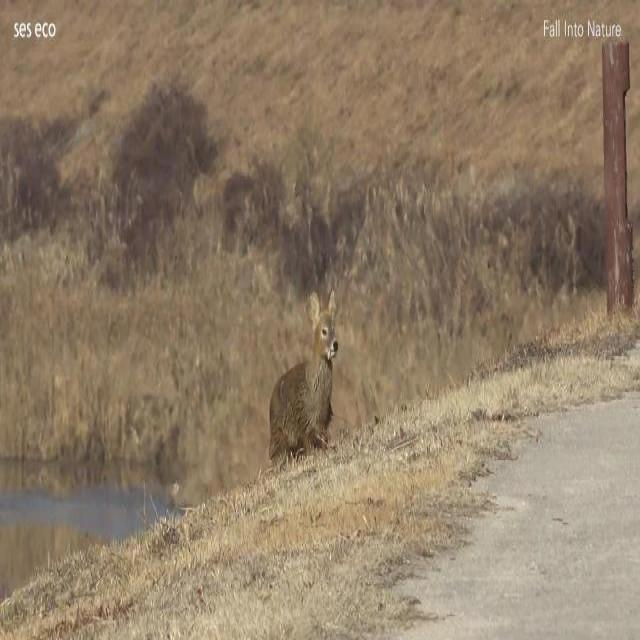deer: (268, 287, 342, 465)
